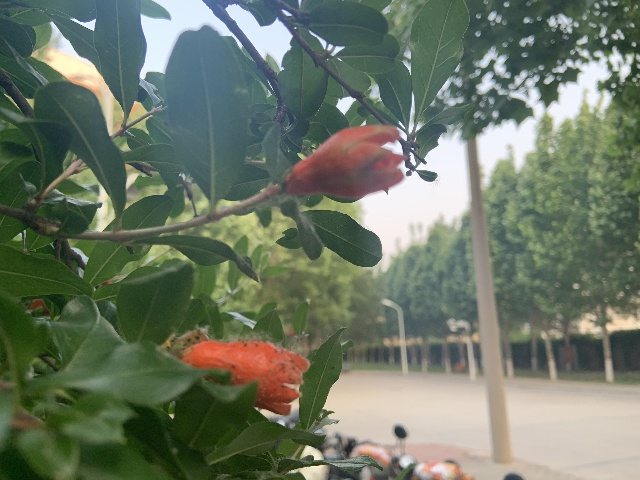flower: (182, 339, 309, 415), (284, 123, 406, 201)
